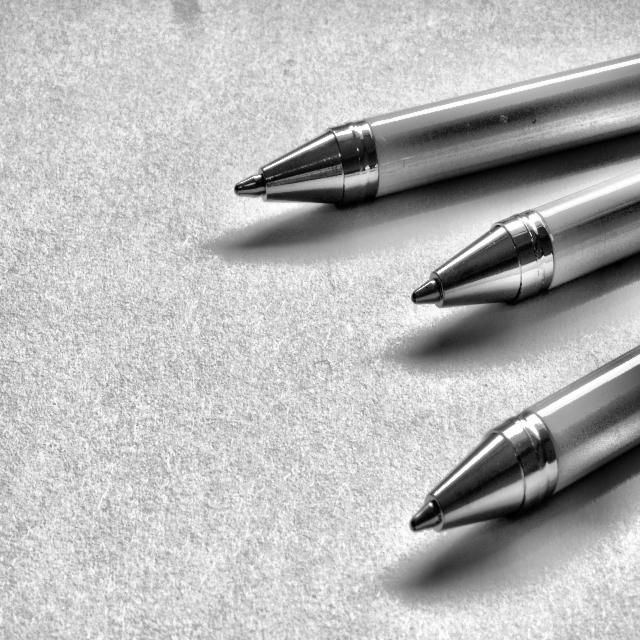Pen: (232, 47, 640, 231), (408, 343, 640, 552), (408, 164, 640, 328)
